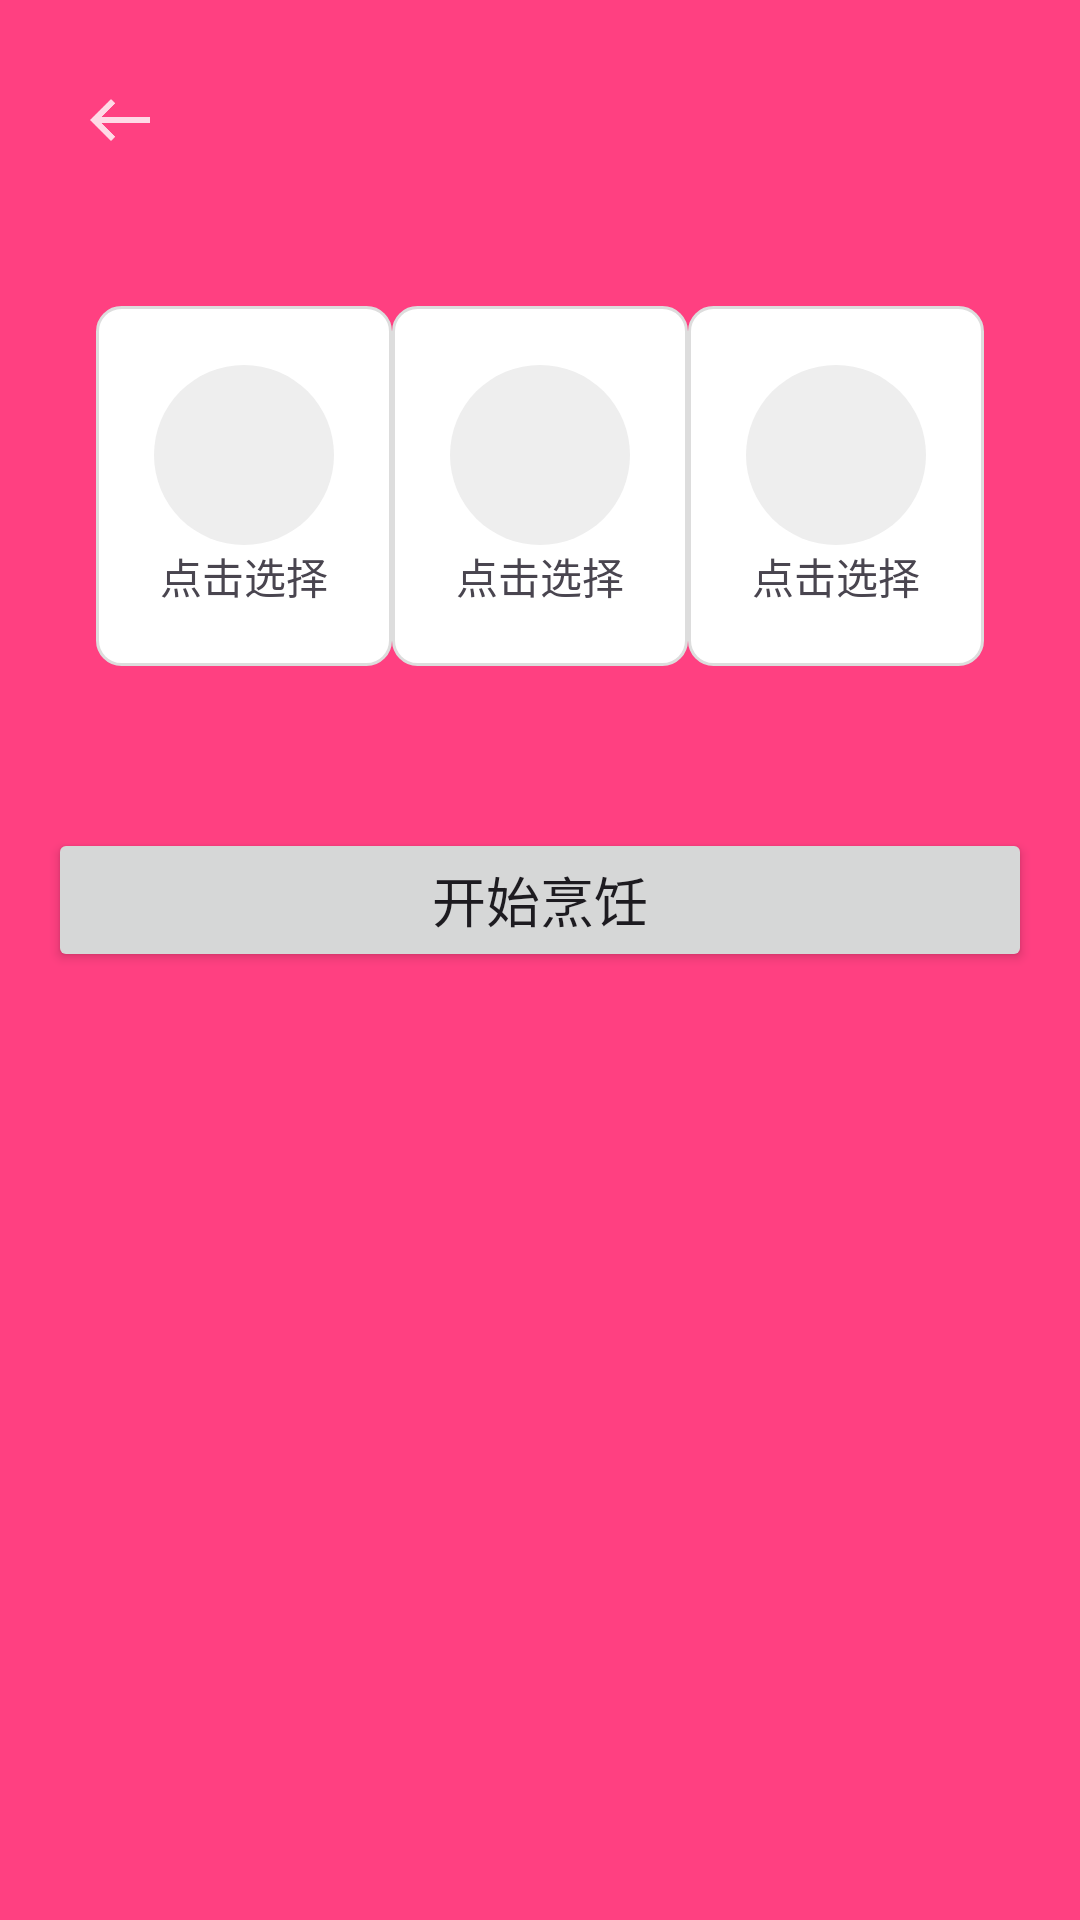

Named icons in this screenshot (1080 × 1920) and their bounding boxes, bbox=(x1, y1, x2, y2):
返回: bbox=(90, 99, 150, 141)
